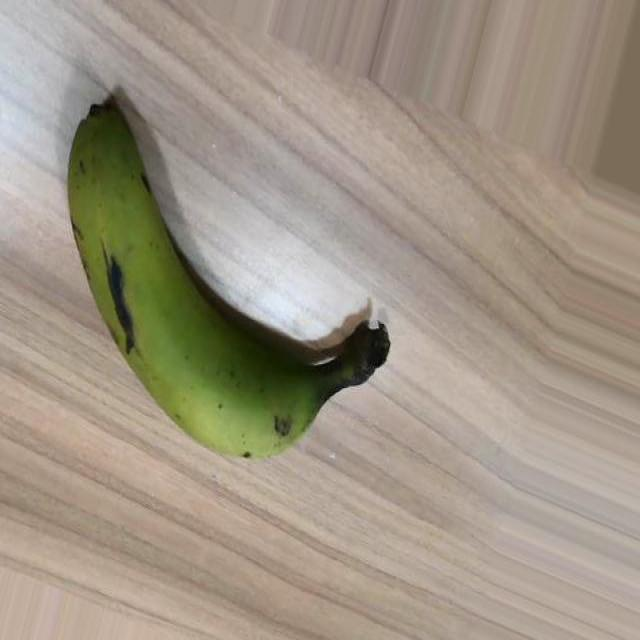Unripe: (66, 92, 391, 460)
